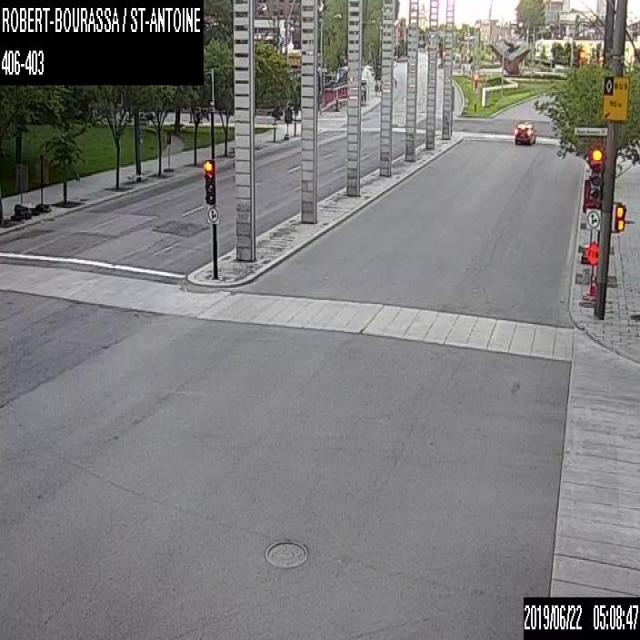construction: (582, 241, 598, 301), (589, 272, 596, 295)
vehicle: (514, 119, 535, 144)
